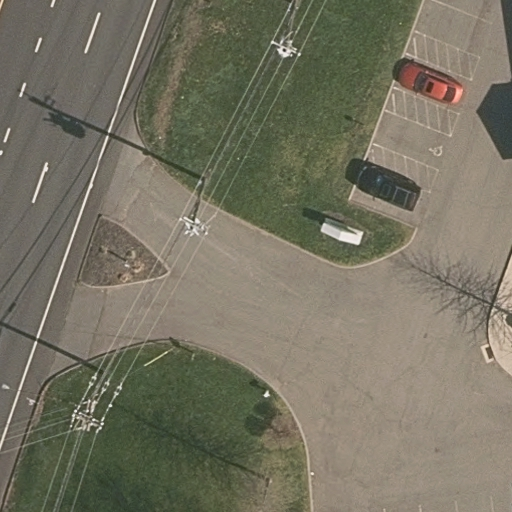DT: (60, 366, 121, 438), (268, 2, 316, 66), (176, 169, 213, 243)
